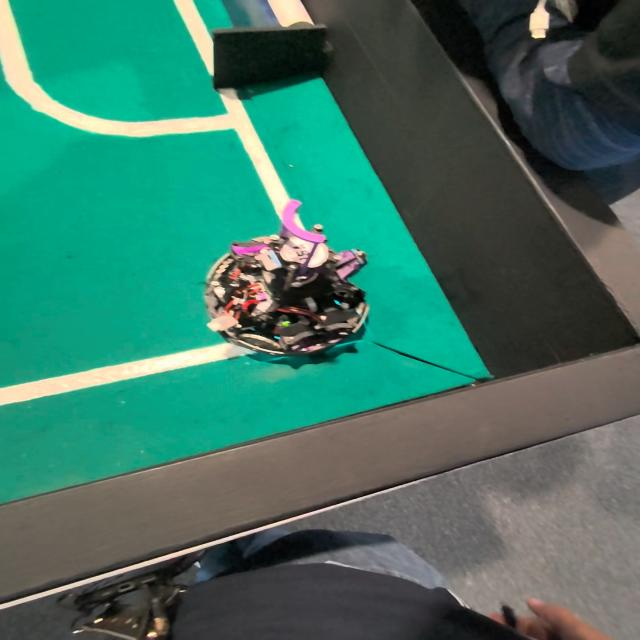Robot: (205, 209, 372, 369), (40, 558, 224, 640)
